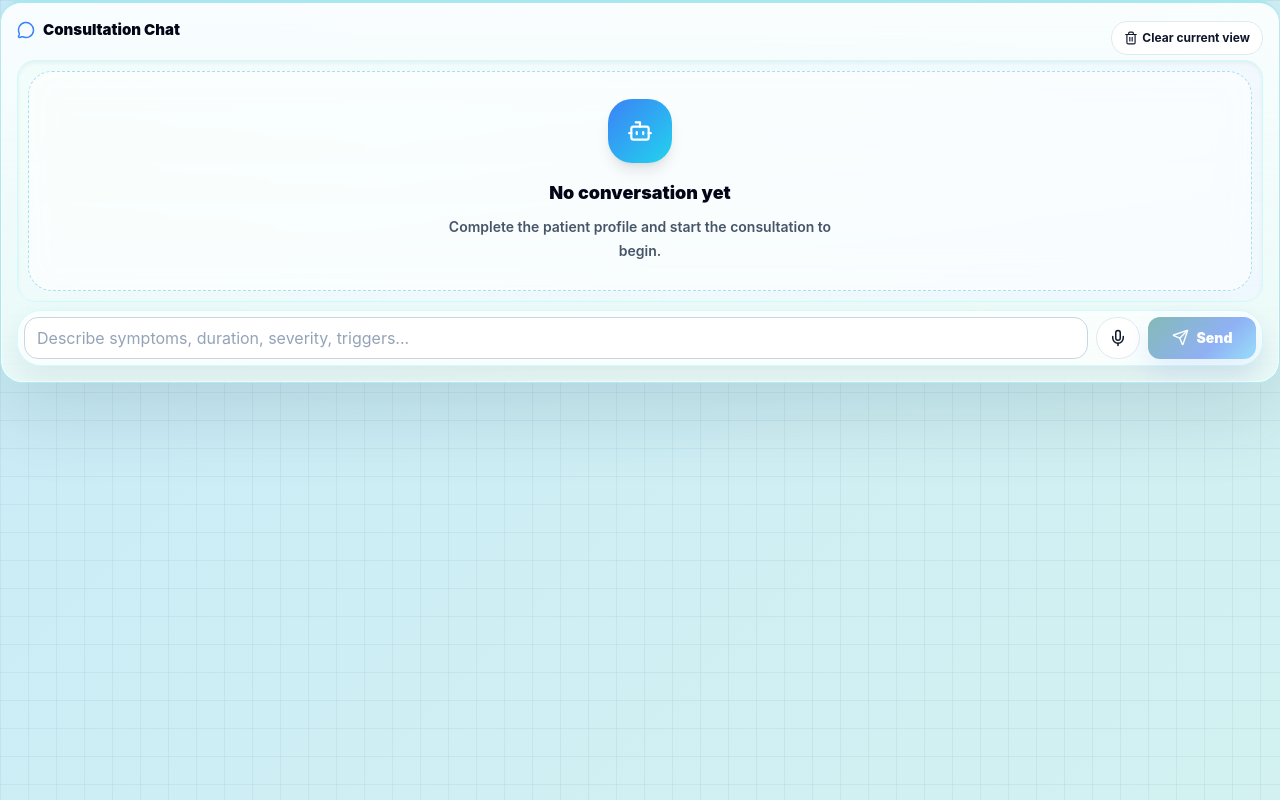
voice chat controls › keeps text chat available when microphone permission is denied
Click the button named "Start voice recording": (1118, 338) [1096,316,1140,358]
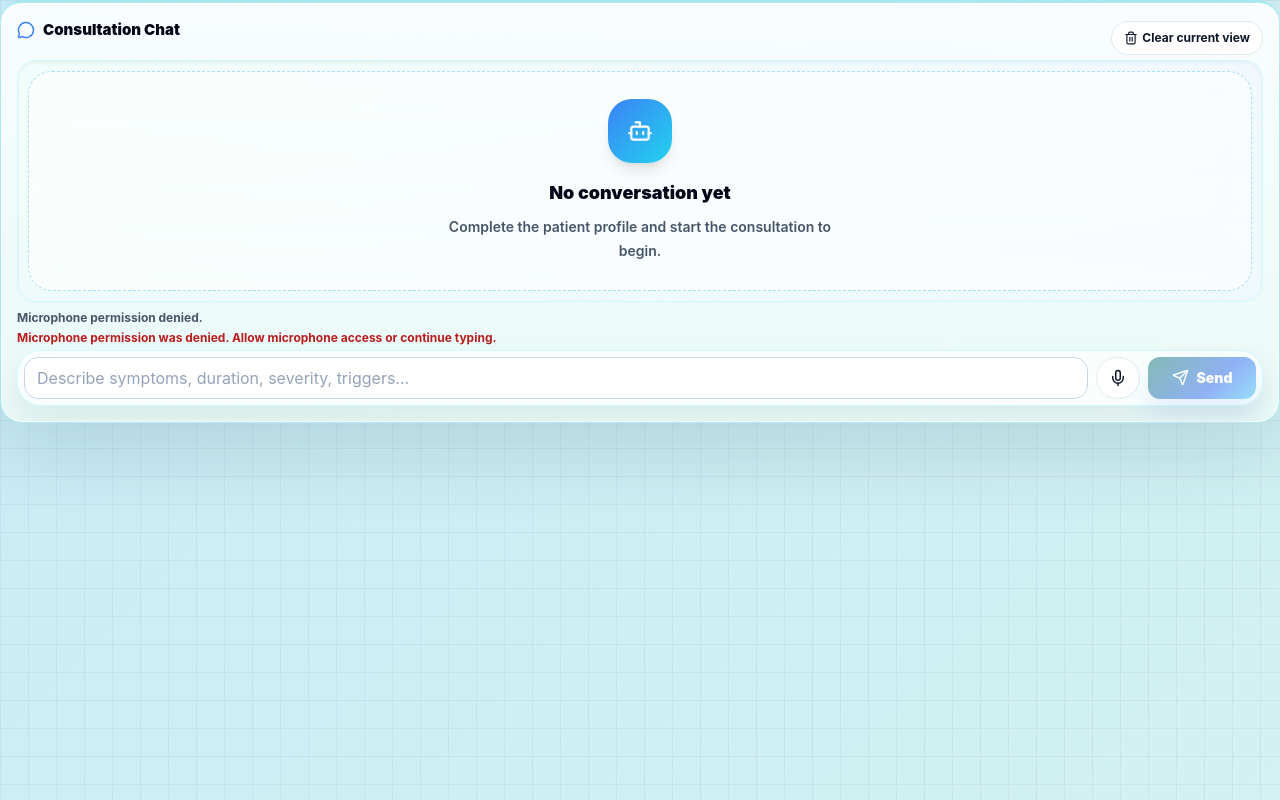
Expected: the field with placeholder "Describe symptoms, duration, severity, triggers..." is enabled, [24,356,1088,398]
Expected: the message "Microphone permission was denied. Allow microphone access or continue typing." is shown, [17,330,496,344]
